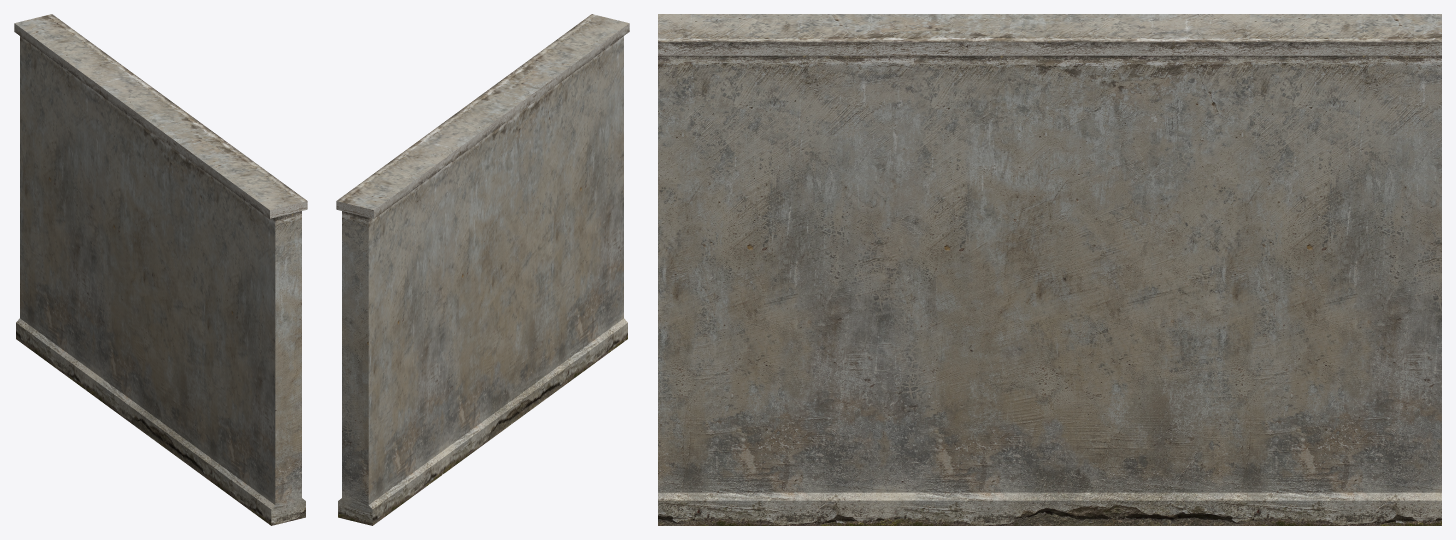
File: WallStuccoA.FBX
3 renders of one model, left to right at view 1: azimuth 30°, elevation 25°; view 2: azimuth 150°, elevation 25°; view 3: azimuth 270°, elevation 25°, orthographic. The views are drawn at different scales.
Parts seen in each view (by area): view 1: WallStuccoA; view 2: WallStuccoA; view 3: WallStuccoA.
Part boxes in pixels (box(x1,y1,x2,y2)): WallStuccoA: box(14, 14, 307, 525); WallStuccoA: box(336, 14, 629, 525); WallStuccoA: box(658, 14, 1441, 525).
Size of the model in its own units: 42.67 by 341 by 500.
